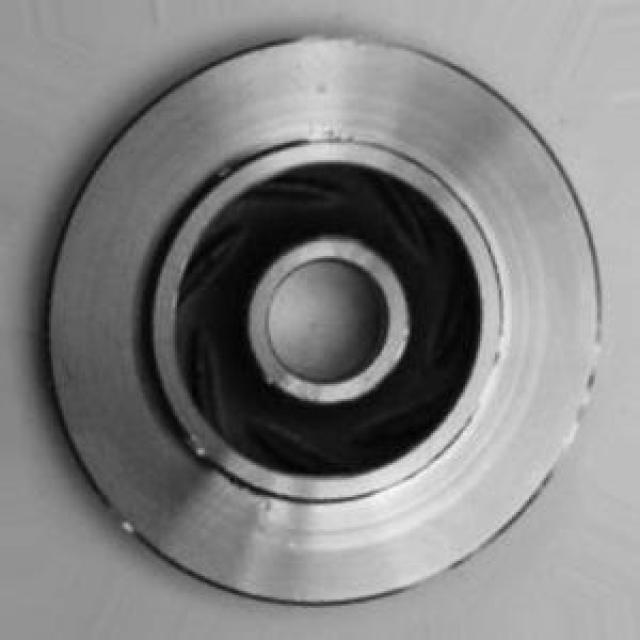Defect: (176, 428, 212, 473)
